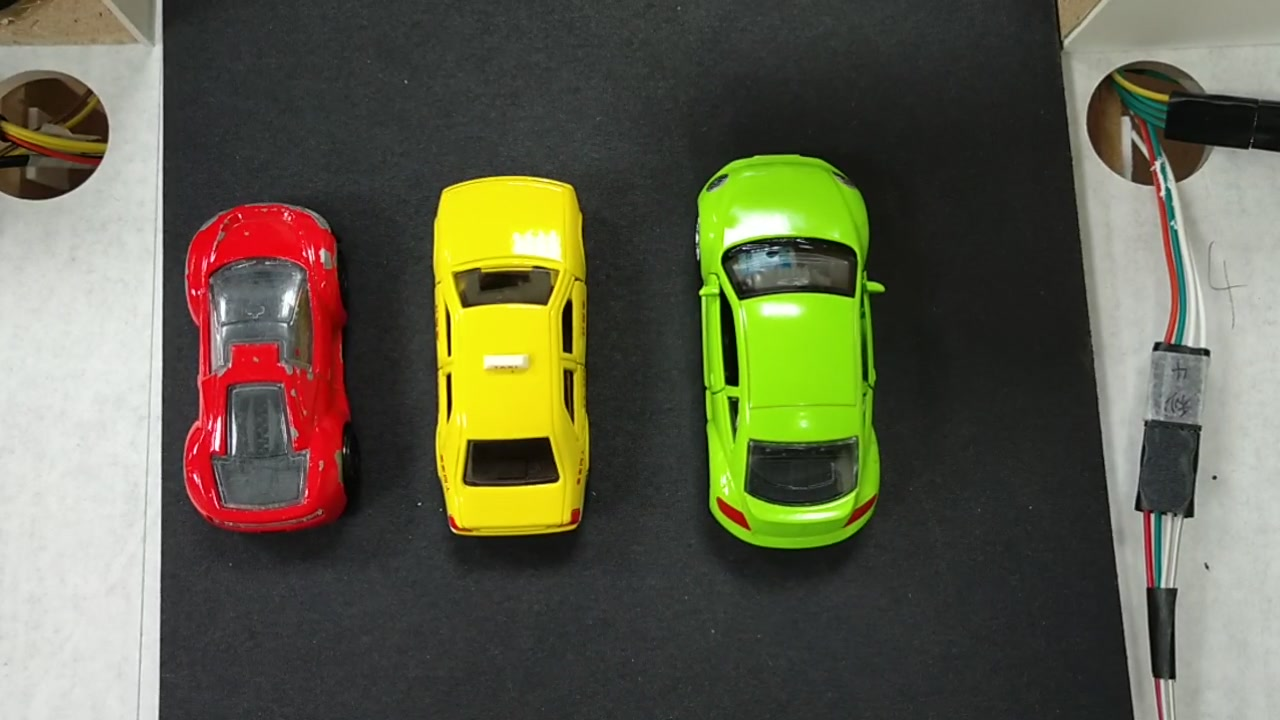car: (701, 159, 879, 546), (439, 176, 600, 553), (189, 210, 351, 536)
